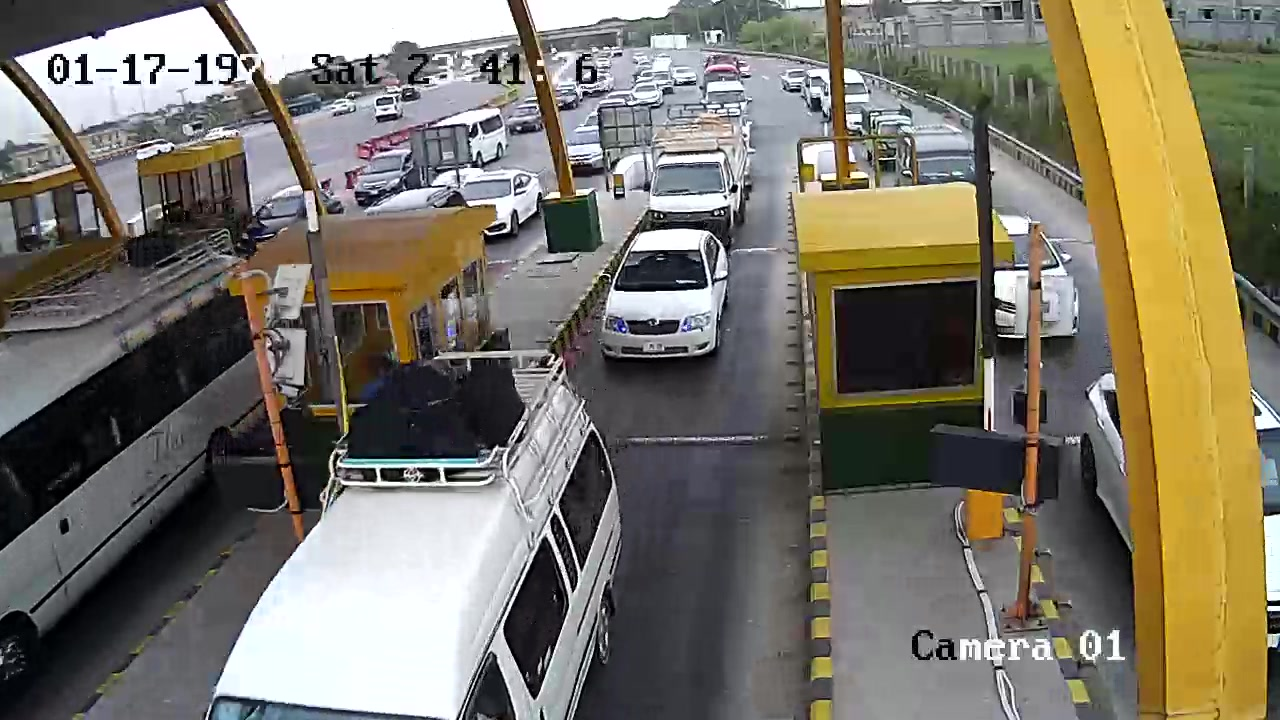F1: (594, 218, 742, 374)
